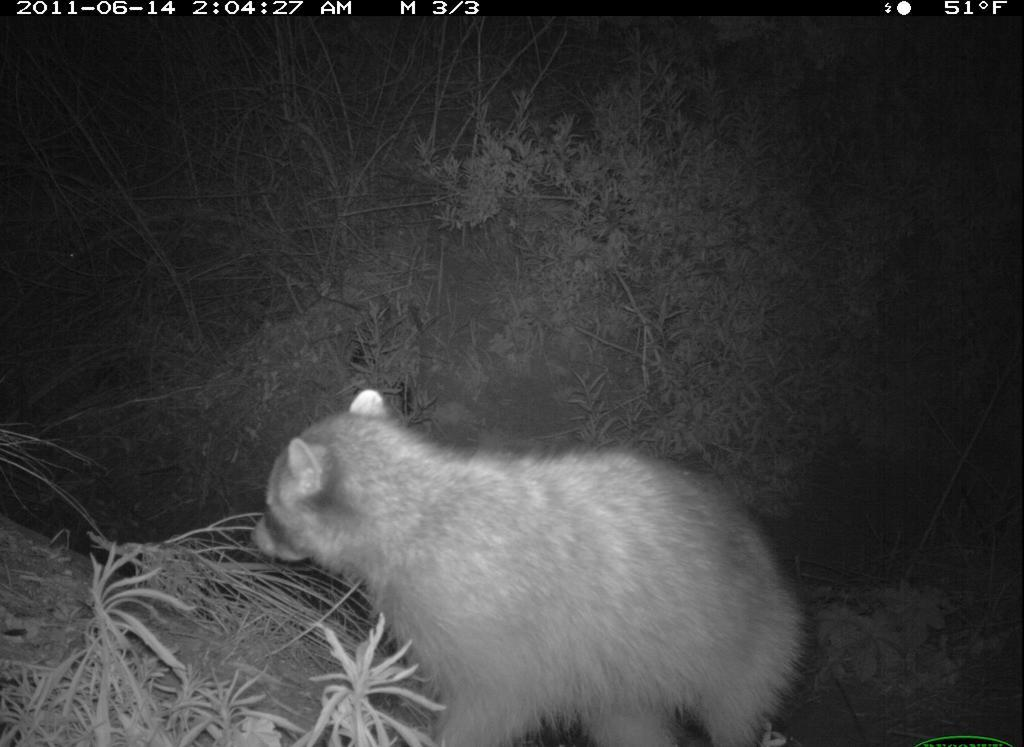raccoon: (239, 377, 835, 745)
